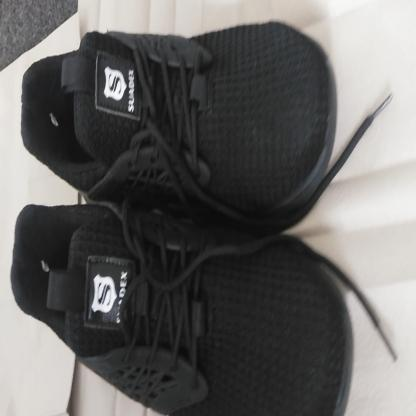safety-shoe: (11, 21, 353, 416)
